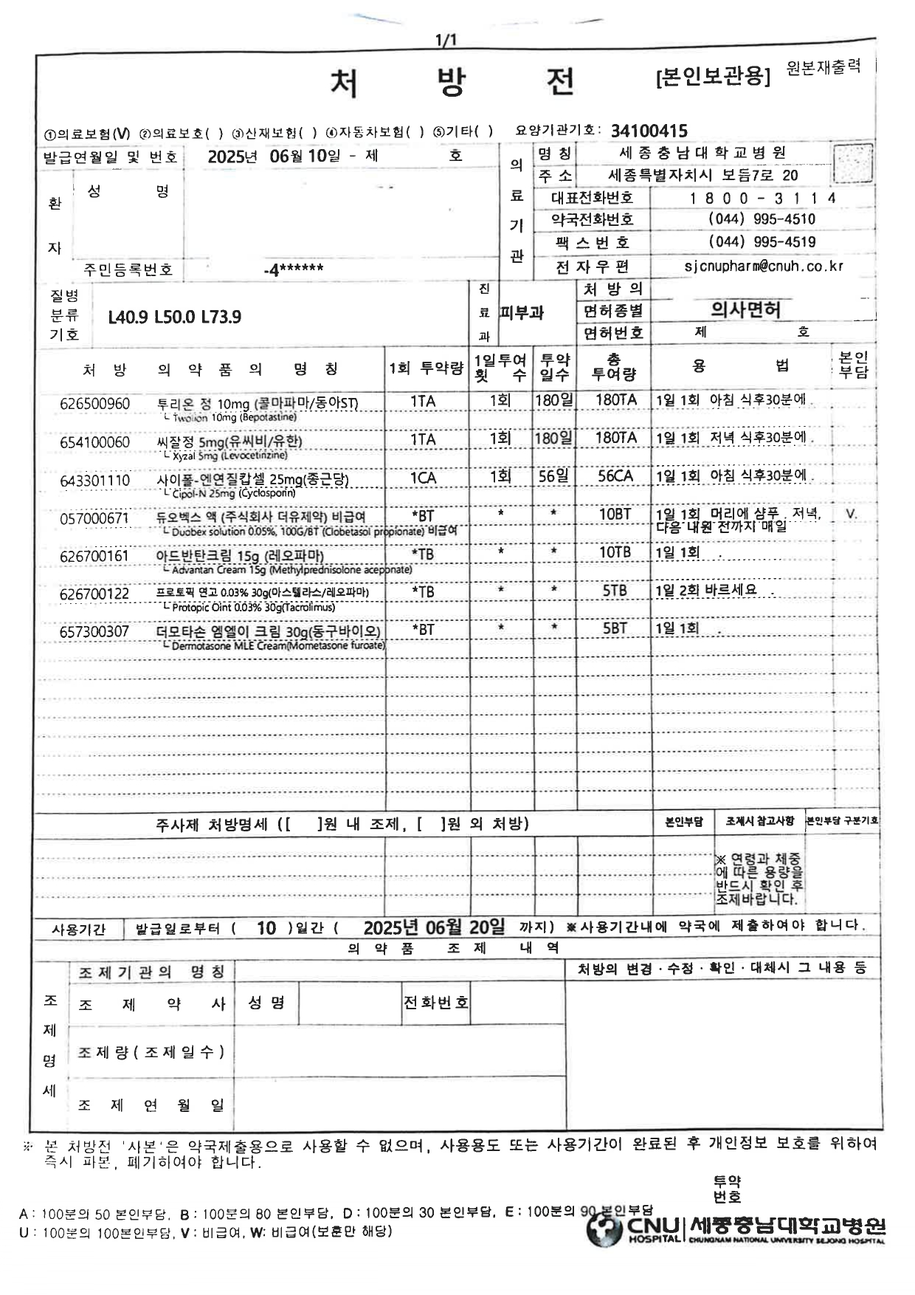row: (32, 940, 564, 1132), (32, 813, 880, 917), (35, 51, 880, 147), (34, 145, 501, 285), (567, 961, 882, 1130), (500, 142, 877, 281), (34, 348, 877, 394), (35, 579, 878, 622), (32, 620, 878, 659), (34, 431, 878, 469), (35, 469, 876, 506), (34, 395, 880, 430), (32, 509, 877, 544), (34, 545, 878, 579), (34, 283, 469, 348), (30, 917, 880, 940), (577, 279, 877, 344), (469, 281, 577, 348)
